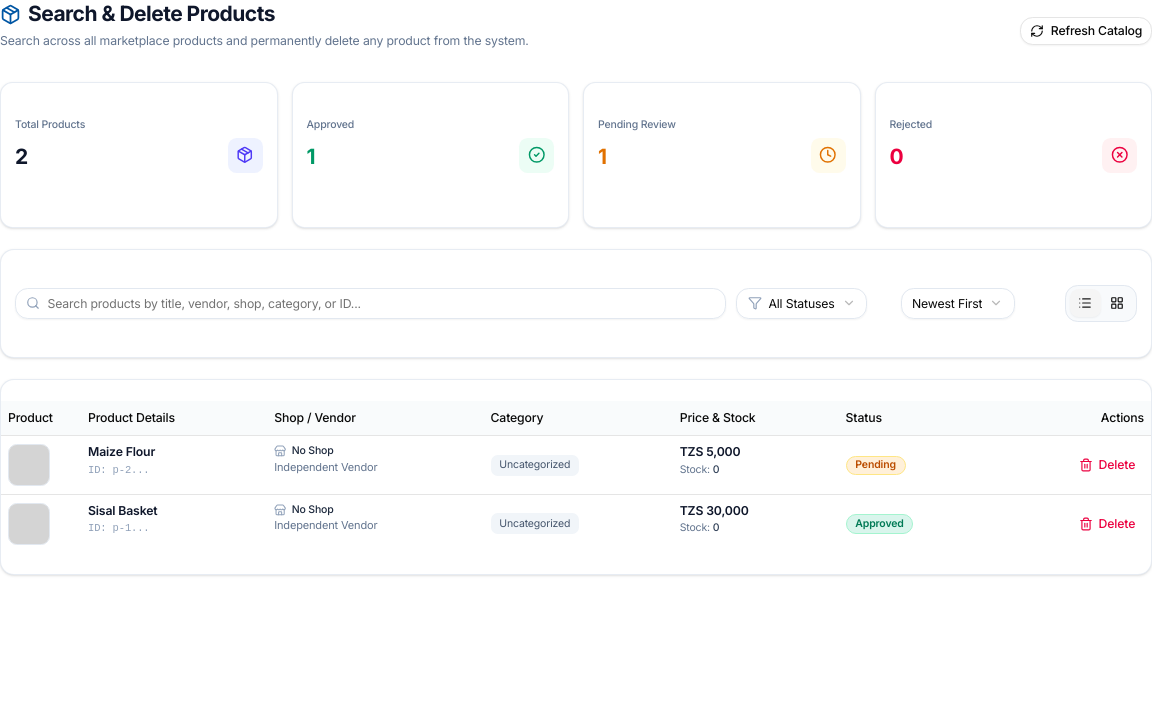
Test case: ProductManagementTab › keeps the row and shows the failure inline when the delete request fails
Step 1. Click the button "Delete" in the row of "Maize Flour" → click(1107, 465), box x1=1071 y1=451 x2=1144 y2=479
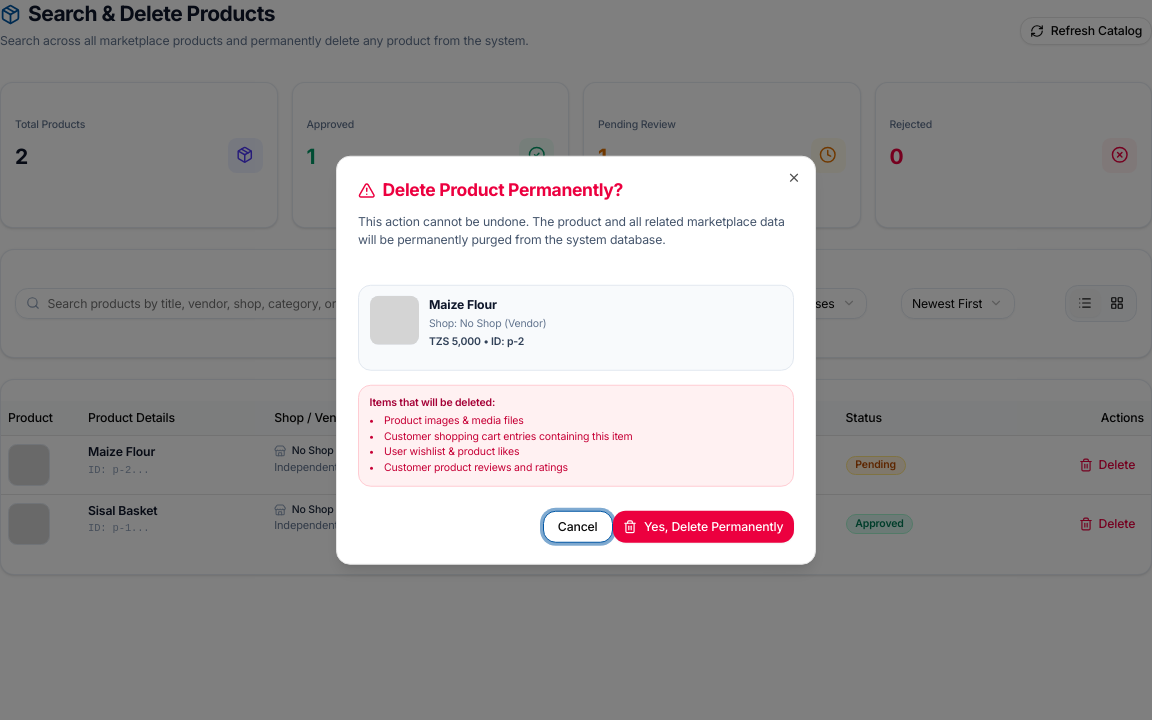
Result: the heading "Delete Product Permanently?" is shown at x1=358 y1=179 x2=623 y2=200
Step 2. Click the button "Yes, Delete Permanently" → click(703, 527), box x1=613 y1=511 x2=794 y2=542
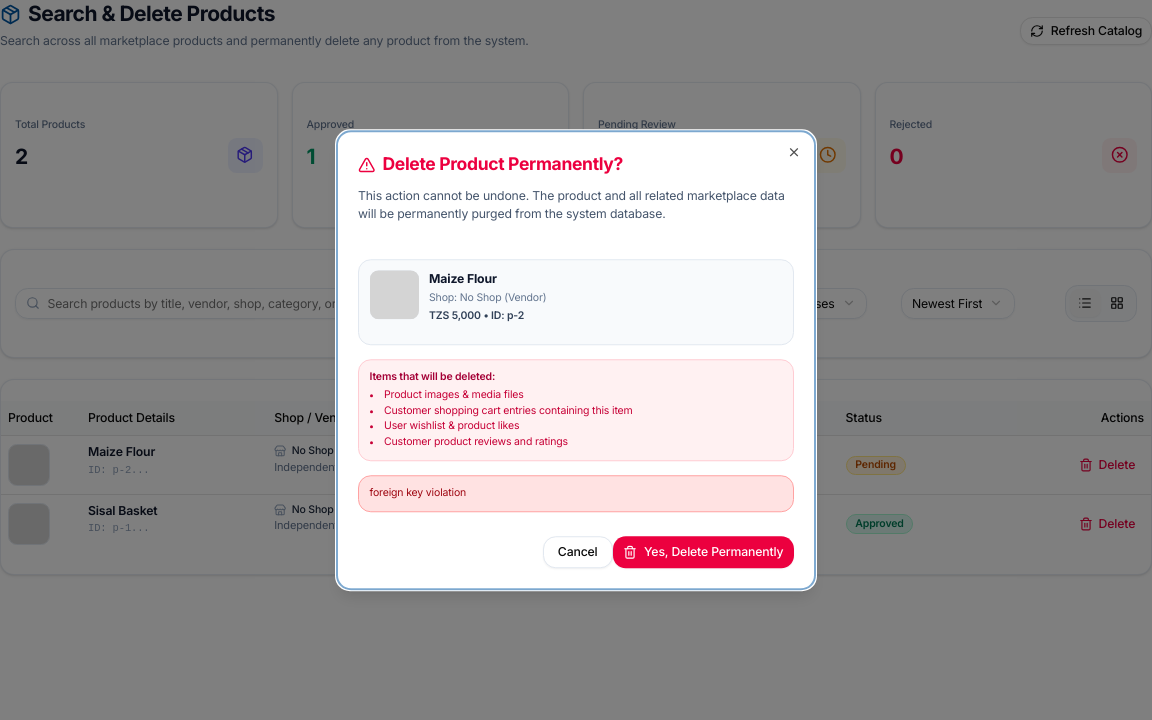
Expected: the text "Maize Flour" below "Product Details" is shown, x1=88 y1=444 x2=155 y2=459
Result: the text "foreign key violation" is shown at x1=358 y1=475 x2=794 y2=512
